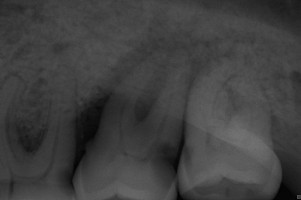Dental Caries: (87, 22, 222, 123)
Endo-Periodontal Lesion: (16, 126, 49, 154)
